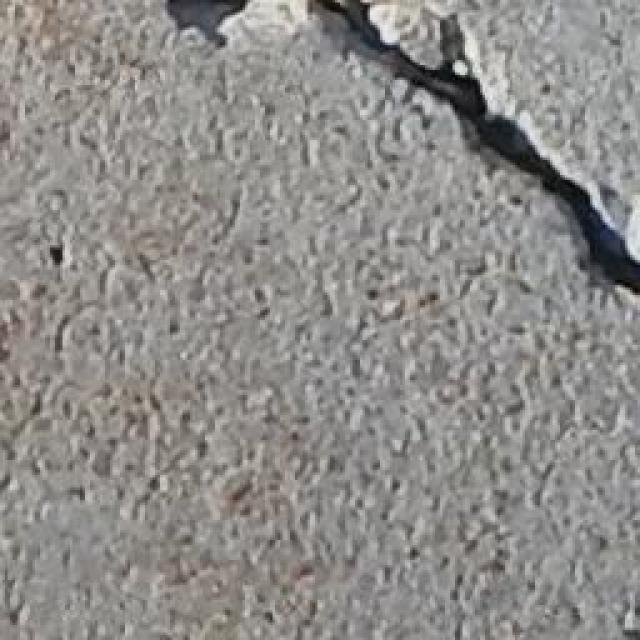concrete-crack: (169, 0, 640, 307)
